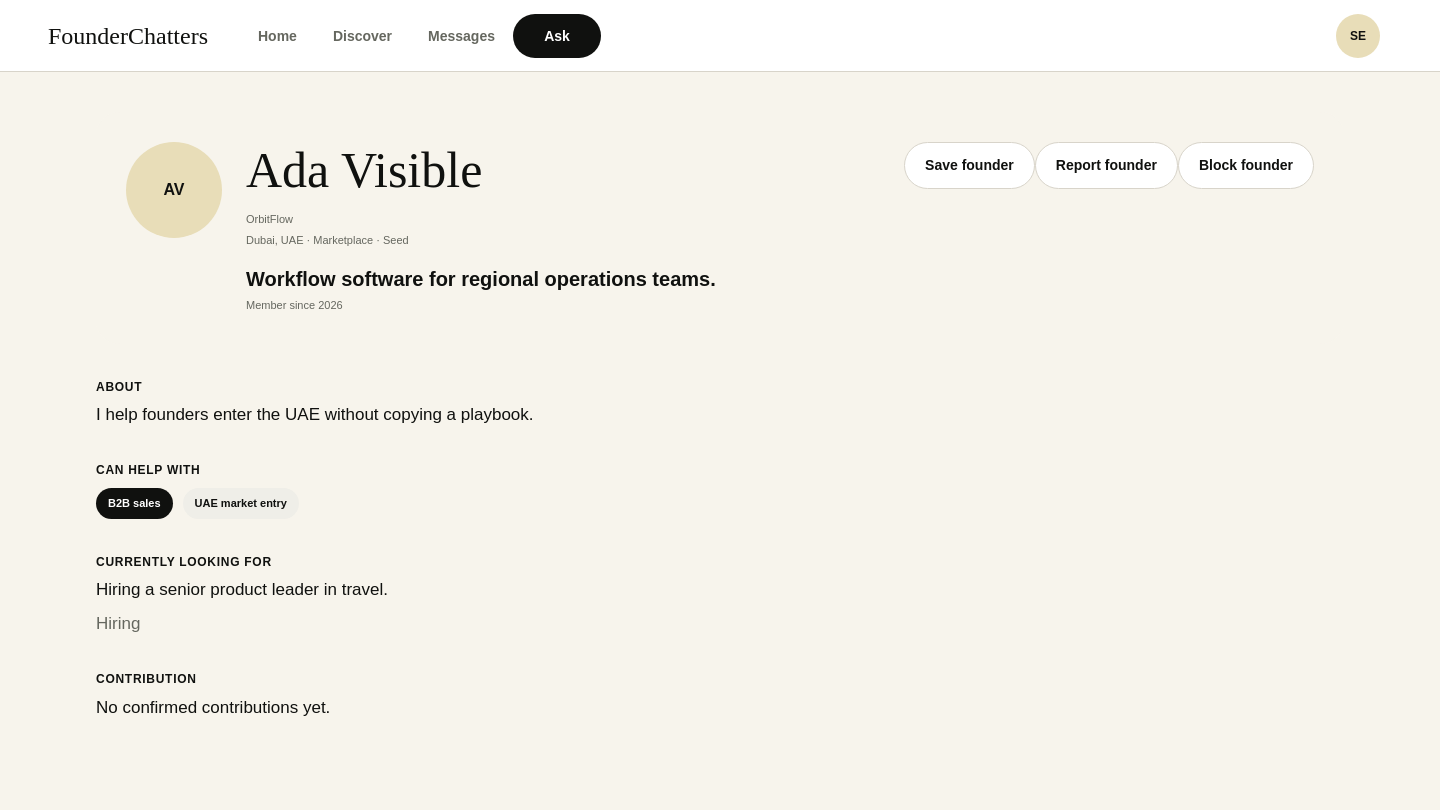
Test: FC-010 founder profile › saves and unsaves another founder
Click the button "Save founder" at coordinates (969, 166), box left=904, top=142, right=1035, bottom=189
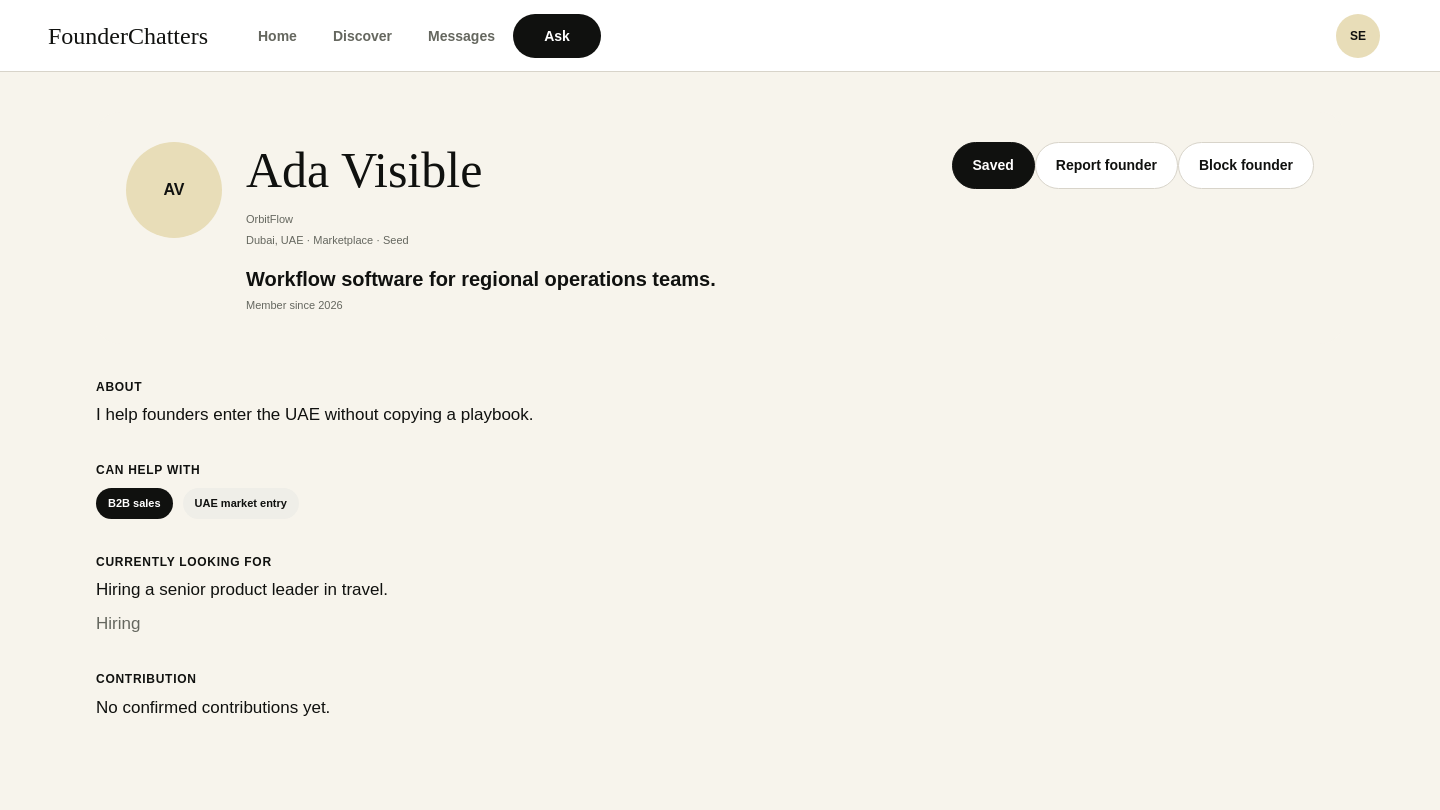
Result: the button "Saved" is shown
Click the button "Saved" at coordinates (993, 166), box left=952, top=142, right=1035, bottom=189
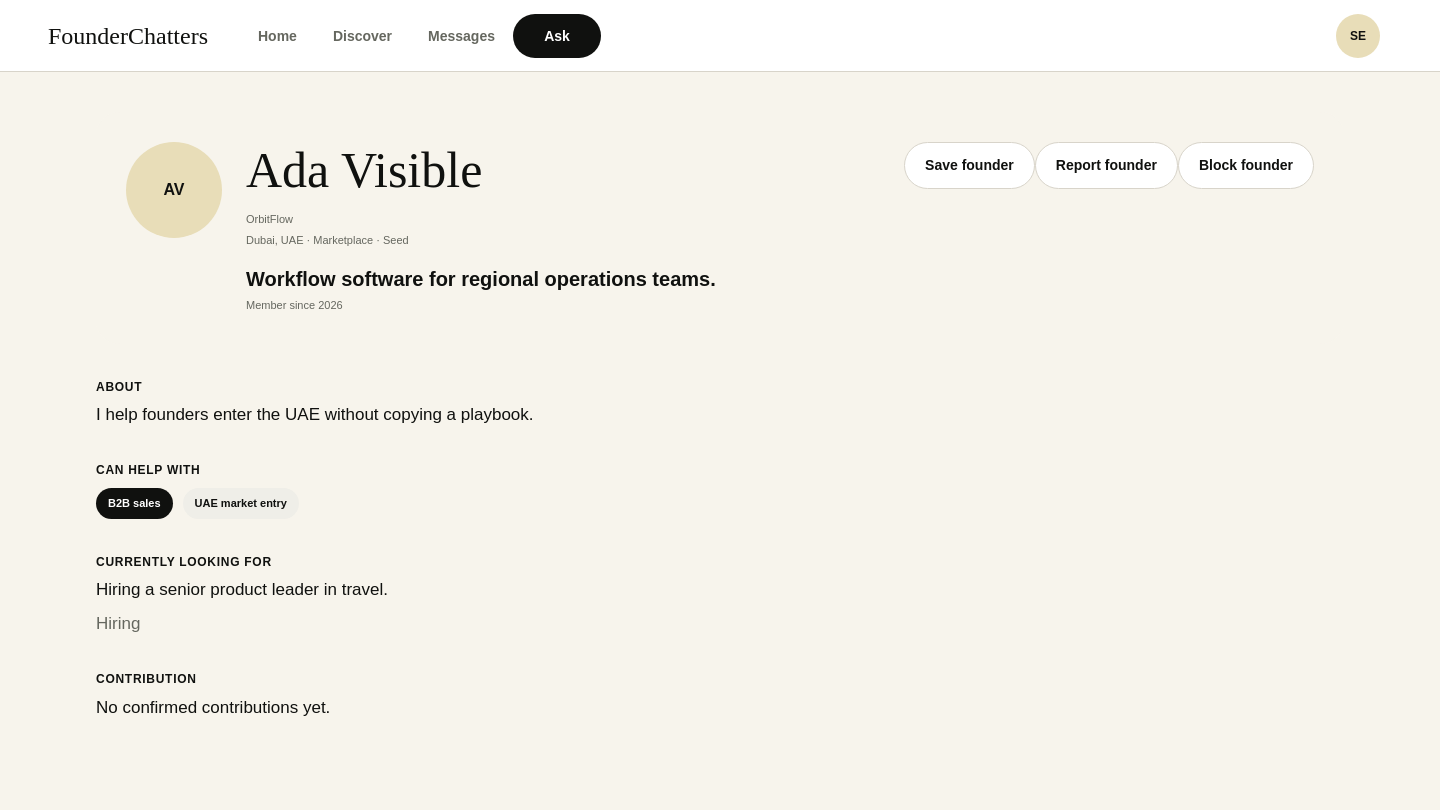
Result: the button "Save founder" is shown at left=904, top=142, right=1035, bottom=189
